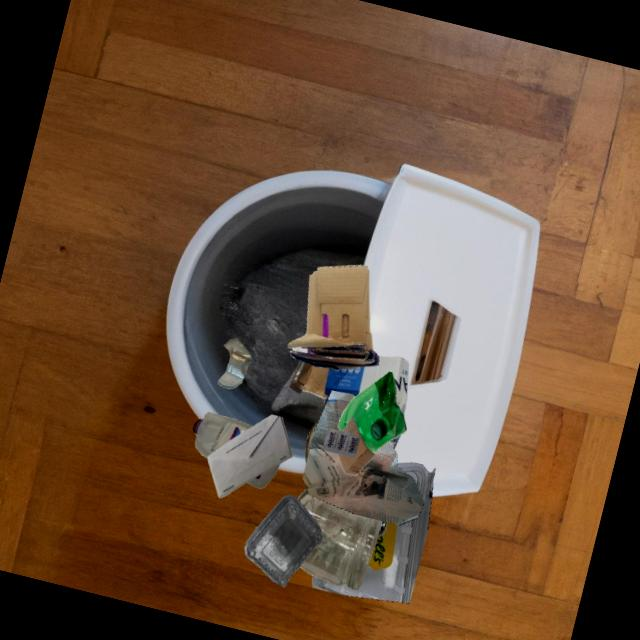cardboard: (287, 264, 379, 370), (288, 355, 408, 416), (337, 416, 374, 475)
glass: (297, 488, 382, 590), (217, 338, 251, 389), (305, 416, 320, 464), (377, 521, 386, 536)
paper: (302, 390, 424, 525), (207, 414, 292, 498), (328, 396, 328, 398)
plastic: (312, 462, 435, 603), (244, 494, 322, 587), (338, 371, 406, 452), (192, 412, 252, 458), (323, 428, 360, 457)
